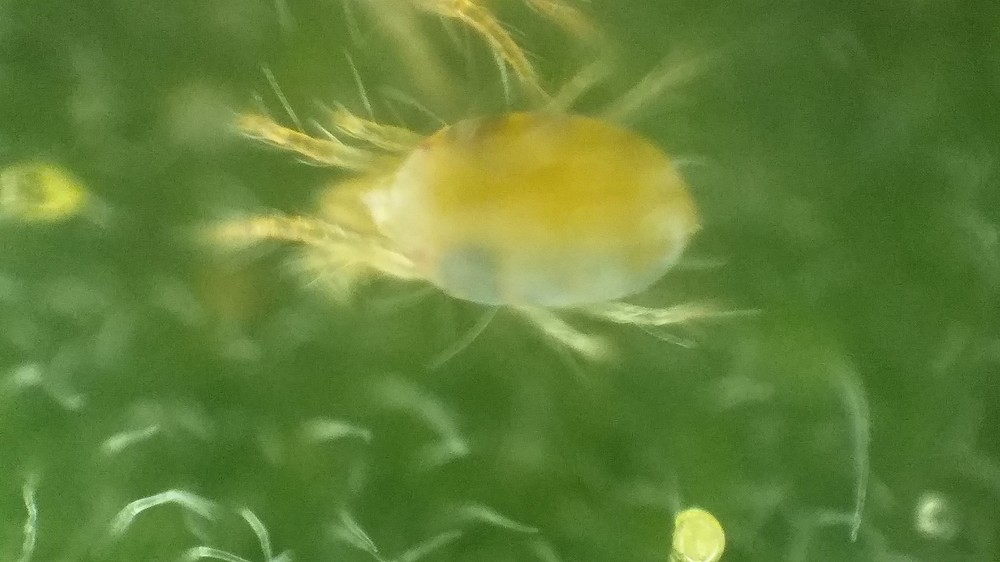Aracnido Rojo: (234, 37, 821, 401)
